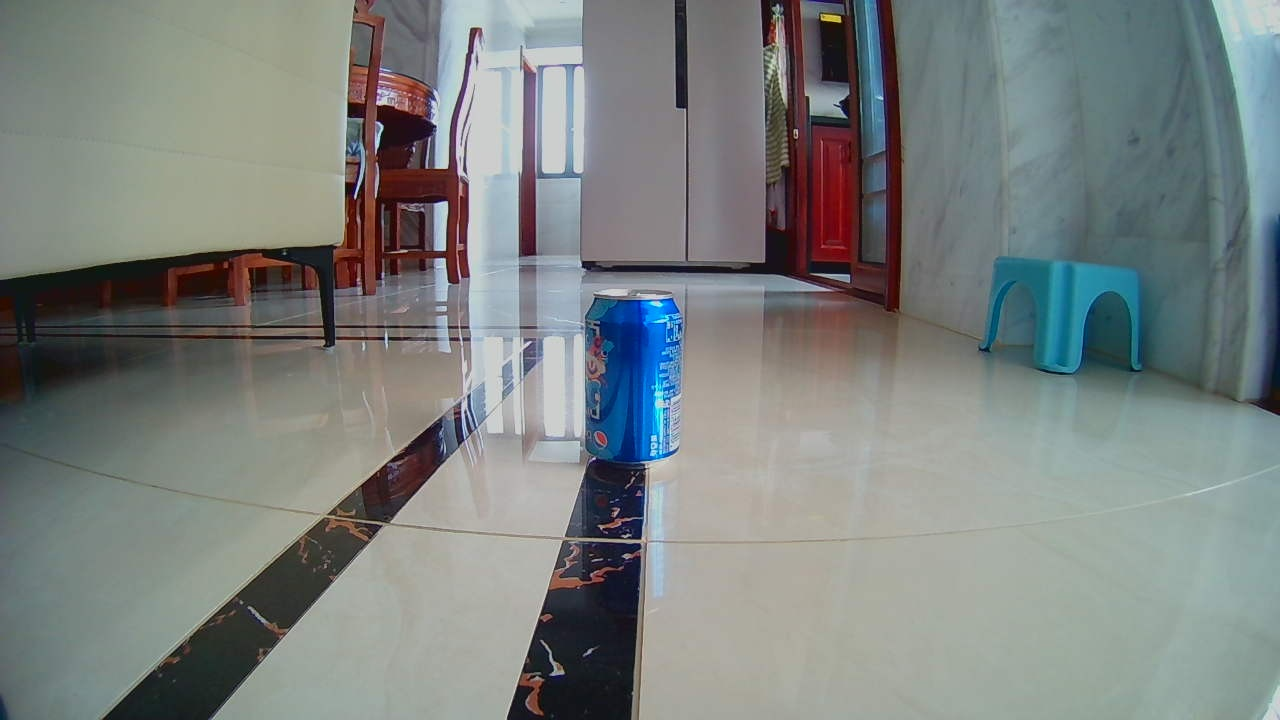pessi: (581, 287, 680, 466)
